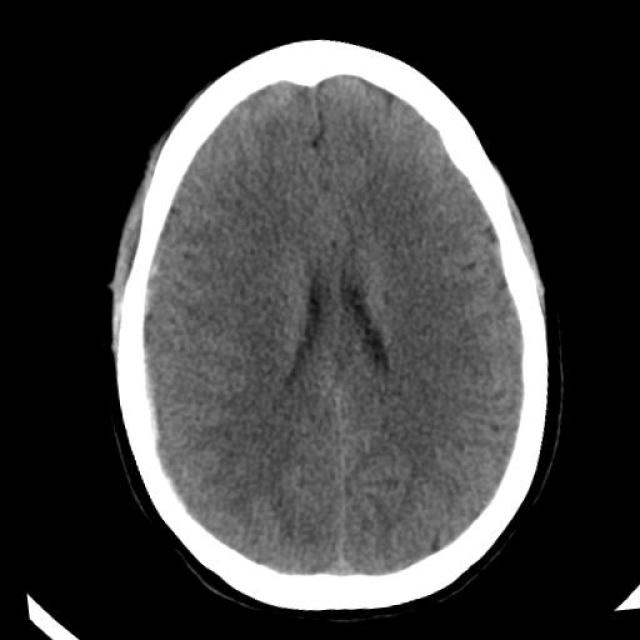Subdural: (107, 322, 187, 484)
